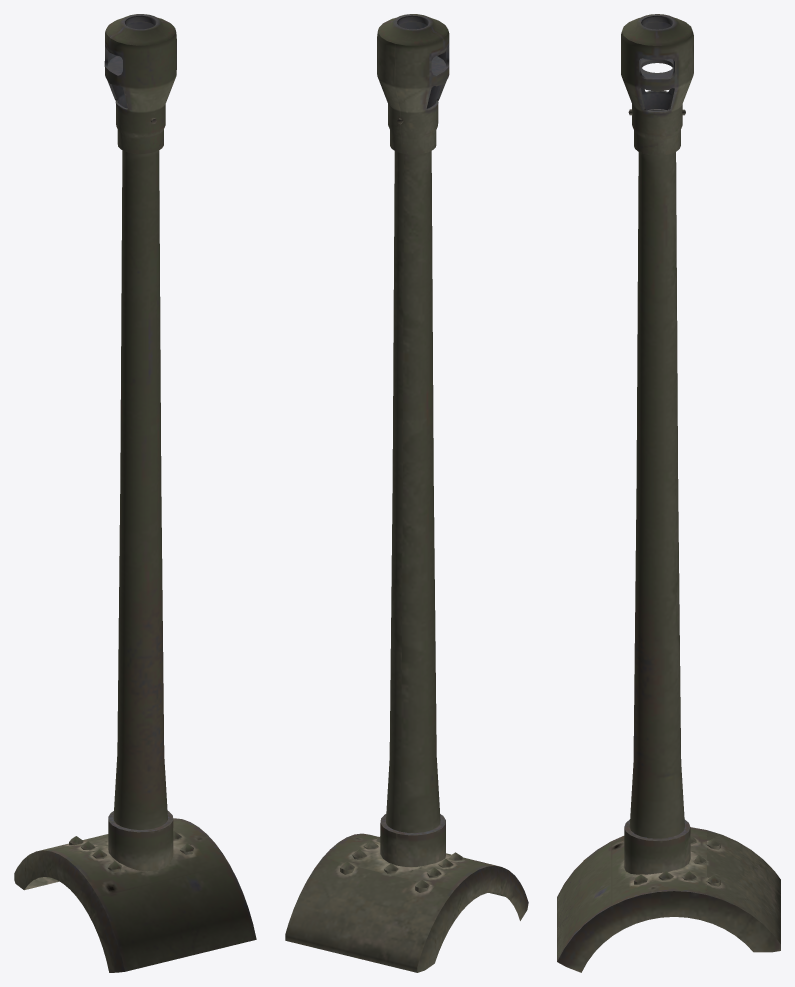
File: Gun_10.glb
3 views of the same model, side by side, from view 1: azimuth 30°, elevation 25°; view 2: azimuth 150°, elevation 25°; view 3: azimuth 270°, elevation 25° (orthographic).
Parts seen in each view (by area): view 1: set_0_group_0; view 2: set_0_group_0; view 3: set_0_group_0.
Boxes of the visible parts, box(x1,y1,x2,y2) form: set_0_group_0: box(14, 14, 256, 972); set_0_group_0: box(285, 14, 528, 972); set_0_group_0: box(557, 14, 780, 972).
Bounding box in the file's own units: 0.6845 × 4.26 × 0.9444.
Materials: 1 (1 with a texture image).
